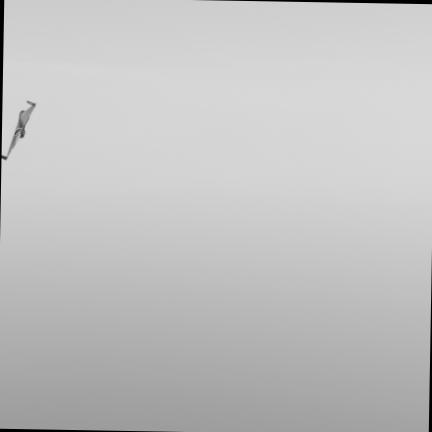Shahed: (2, 101, 34, 158)
